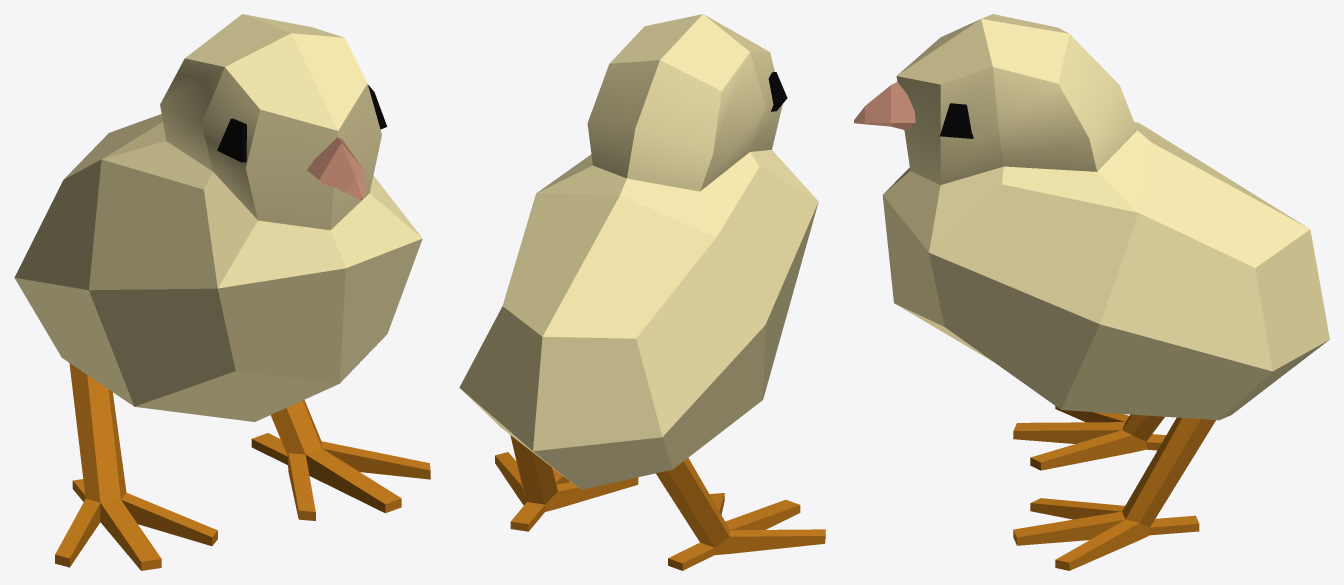
The model's file is chick.glb.
The picture shows the model from 3 angles, left to right: view 1: azimuth 30°, elevation 25°; view 2: azimuth 150°, elevation 25°; view 3: azimuth 270°, elevation 25°; orthographic projection. The views are drawn at different scales.
Visible parts, largest first — view 1: Geo_Chick; view 2: Geo_Chick; view 3: Geo_Chick.
Part boxes in pixels (x1,y1,x2,y2): Geo_Chick: [14, 14, 430, 570]; Geo_Chick: [459, 14, 825, 570]; Geo_Chick: [854, 14, 1329, 570].
Bounding box in the file's own units: 67.62 × 89.72 × 82.42.
Materials: 1 (1 with a texture image).
